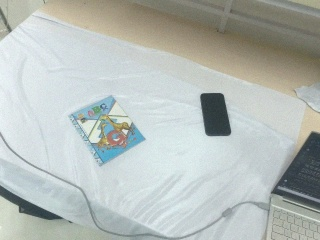book: (67, 95, 146, 166)
phone: (200, 93, 231, 136)
